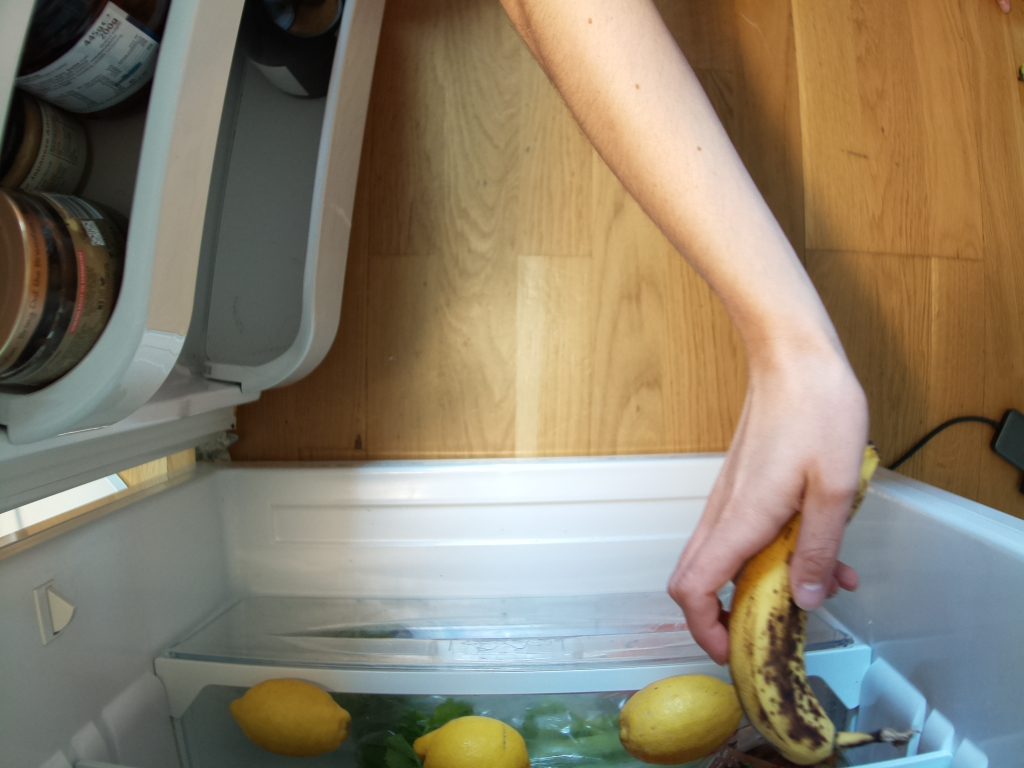banana-overripe: (738, 528, 922, 768)
